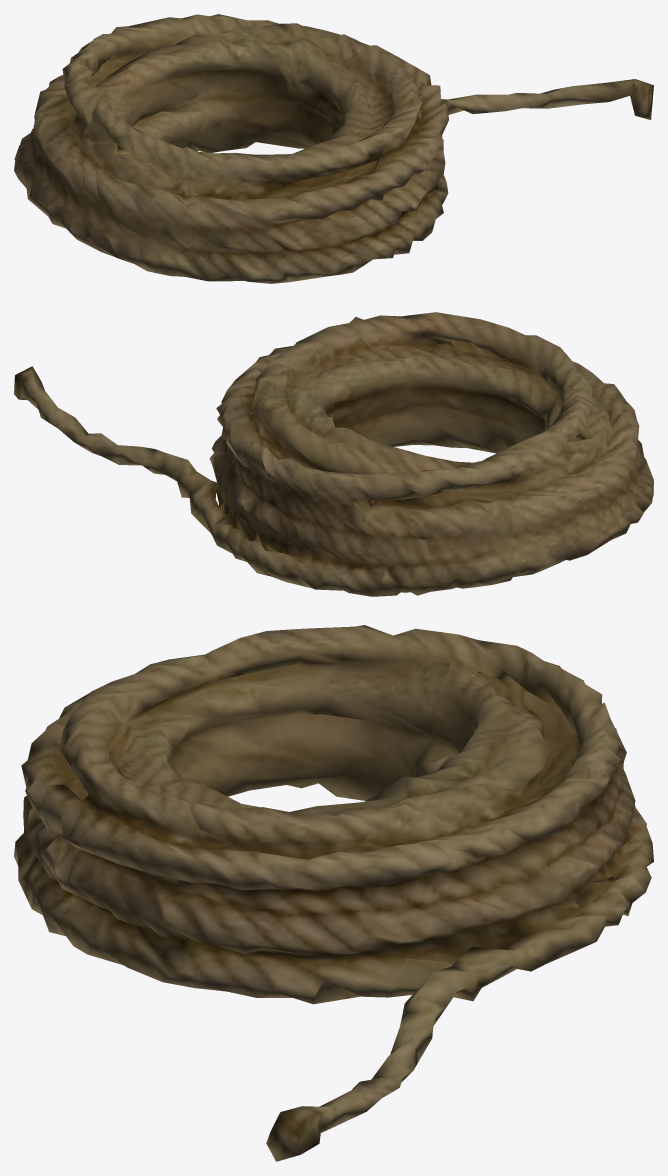
The model's file is rope_coil_hemp_lod1.glb.
The picture shows the model from 3 angles, top to bottom: view 1: azimuth 30°, elevation 25°; view 2: azimuth 150°, elevation 25°; view 3: azimuth 270°, elevation 25°; orthographic projection. The views are drawn at different scales.
Parts seen in each view (by area): view 1: rope_coil_hemp; view 2: rope_coil_hemp; view 3: rope_coil_hemp.
Boxes of the visible parts, left/top/right/bottom form: rope_coil_hemp: left=14, top=14, right=653, bottom=283; rope_coil_hemp: left=14, top=312, right=653, bottom=596; rope_coil_hemp: left=14, top=625, right=653, bottom=1161.
Bounding box in the file's own units: 0.3 × 0.0583 × 0.1942.
1 material, 1 textured.
